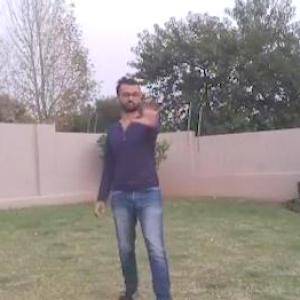follow_hand: (130, 84, 168, 130)
